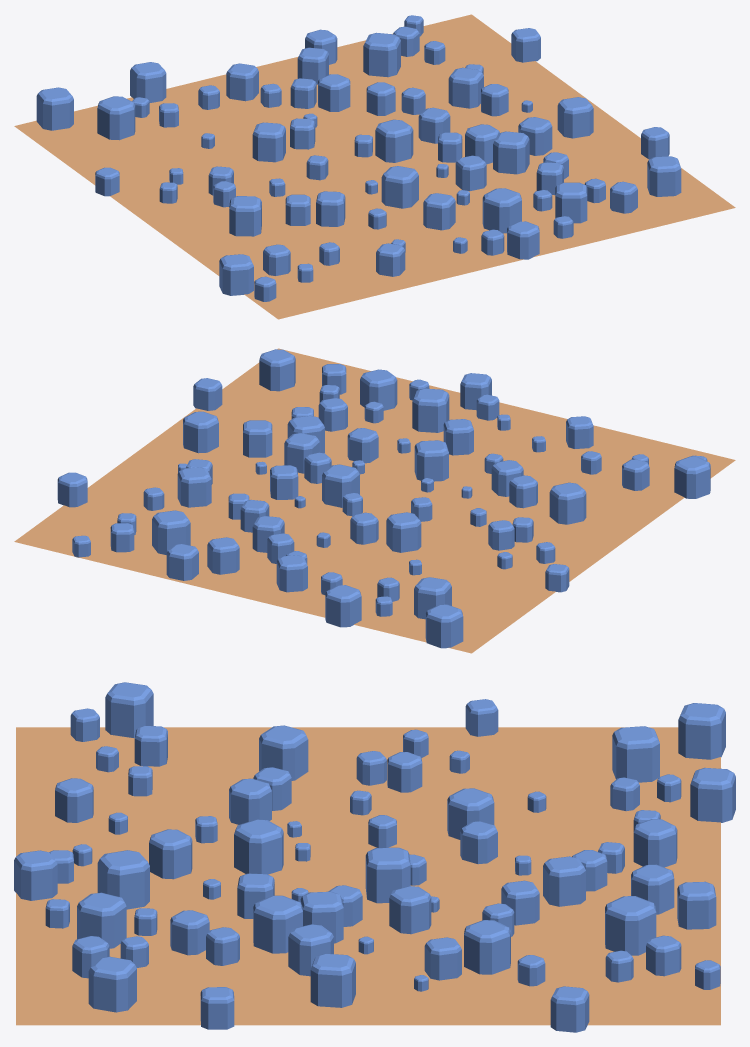
File: TEST_bungus.fbx
3 views of the same model, one above another, from view 1: azimuth 30°, elevation 25°; view 2: azimuth 150°, elevation 25°; view 3: azimuth 270°, elevation 25° (orthographic). The views are drawn at different scales.
Visible parts, largest first — view 1: Plane; view 2: Plane; view 3: Plane.
Boxes of the visible parts, x1,y1,x2,y2 form: Plane: (14, 14, 735, 319); Plane: (14, 348, 735, 653); Plane: (14, 682, 735, 1032).
Bounding box in the file's own units: 6331 × 391 × 6145.
